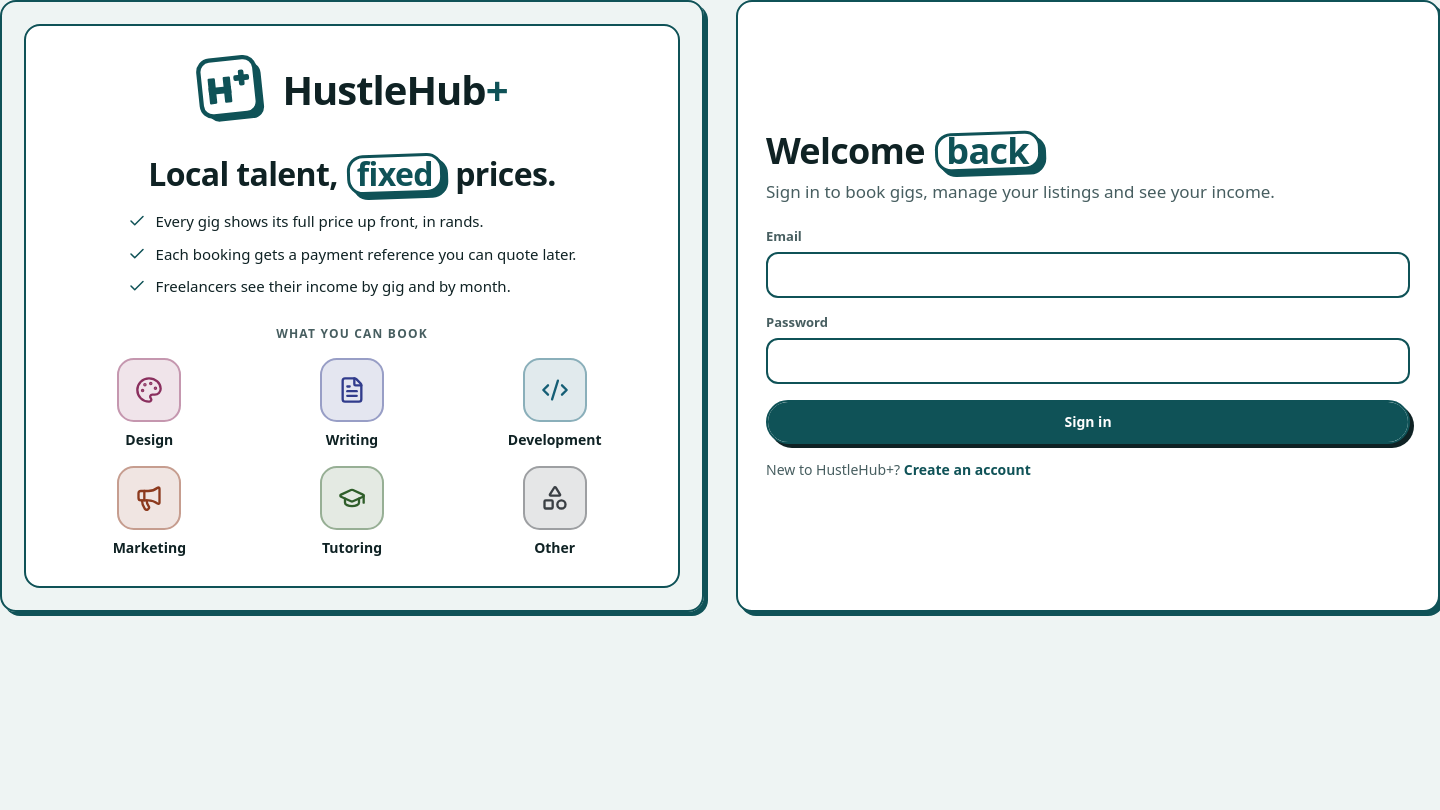
Login page interaction › shows field errors and does not call the api when the form is empty
The image size is (1440, 810).
Click the button "Sign in" at (1088, 422), box [766, 400, 1410, 444]
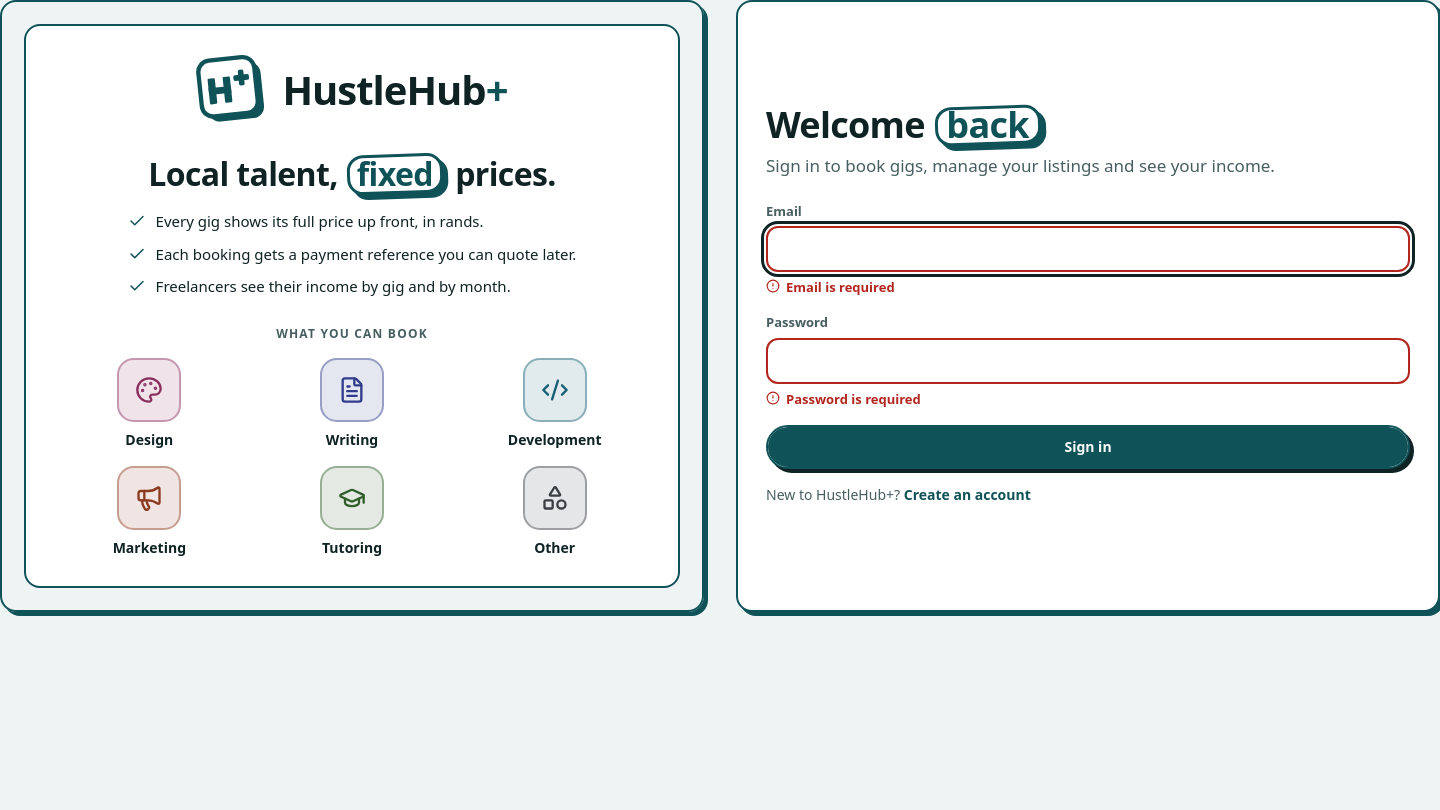
Now the text "Email is required" is shown, box [786, 278, 895, 298]
Now the text "Password is required" is shown, box [786, 390, 921, 409]
